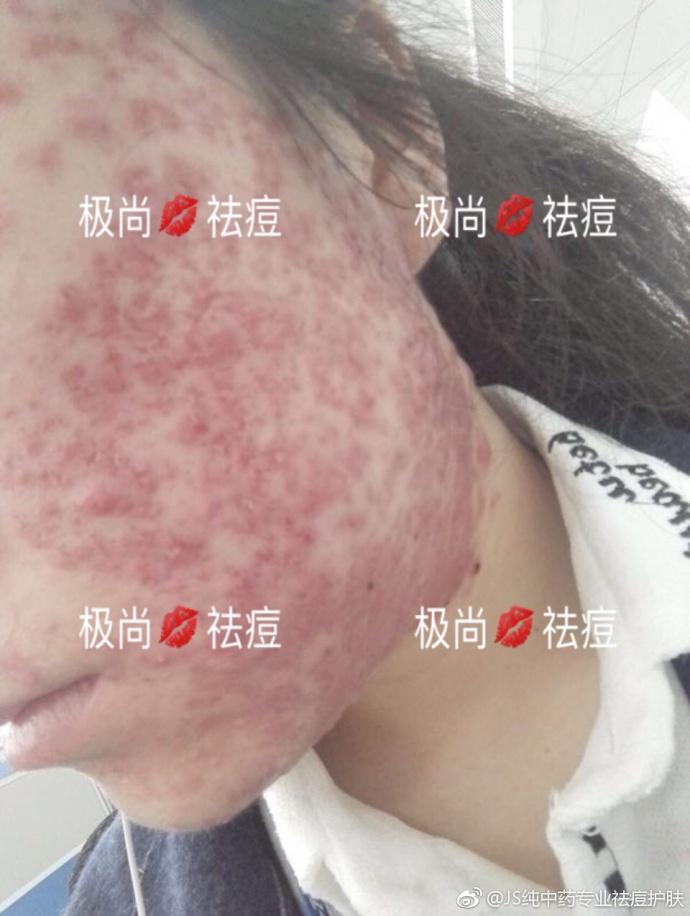fore: (103, 161, 193, 226), (227, 560, 292, 641), (174, 273, 243, 336), (262, 304, 325, 369), (51, 476, 120, 531), (418, 354, 473, 423), (26, 1, 83, 64), (81, 300, 140, 354), (195, 324, 241, 393), (388, 507, 457, 553), (284, 210, 347, 259), (384, 316, 436, 373), (227, 446, 286, 495), (61, 417, 109, 474), (203, 121, 256, 172), (13, 504, 63, 557), (167, 150, 219, 200), (337, 216, 384, 271), (235, 135, 286, 184), (168, 413, 235, 450), (124, 86, 178, 131), (414, 405, 467, 450), (246, 359, 301, 402), (71, 107, 118, 157), (347, 551, 394, 600), (142, 336, 193, 379), (323, 513, 363, 566), (122, 541, 158, 598), (306, 576, 345, 625), (132, 383, 181, 422), (205, 221, 249, 264), (42, 277, 85, 320), (24, 134, 69, 175), (0, 444, 36, 492), (183, 691, 223, 734), (51, 356, 93, 395), (77, 247, 130, 277), (310, 444, 359, 476), (223, 501, 256, 547), (268, 517, 310, 553), (467, 436, 501, 480), (183, 655, 240, 681), (54, 540, 96, 575), (111, 466, 152, 501), (294, 452, 329, 493), (305, 367, 340, 407), (406, 446, 447, 480), (265, 677, 305, 711), (160, 531, 192, 572), (262, 430, 296, 468), (118, 245, 164, 273), (143, 641, 175, 678), (0, 79, 37, 110), (130, 497, 165, 524), (313, 637, 341, 667), (87, 363, 115, 391), (369, 411, 386, 428), (331, 354, 343, 367), (105, 566, 109, 570)
